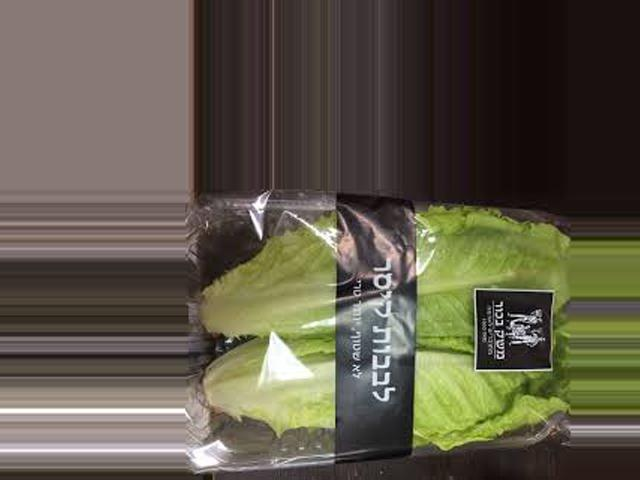lettuce: (184, 210, 566, 470)
